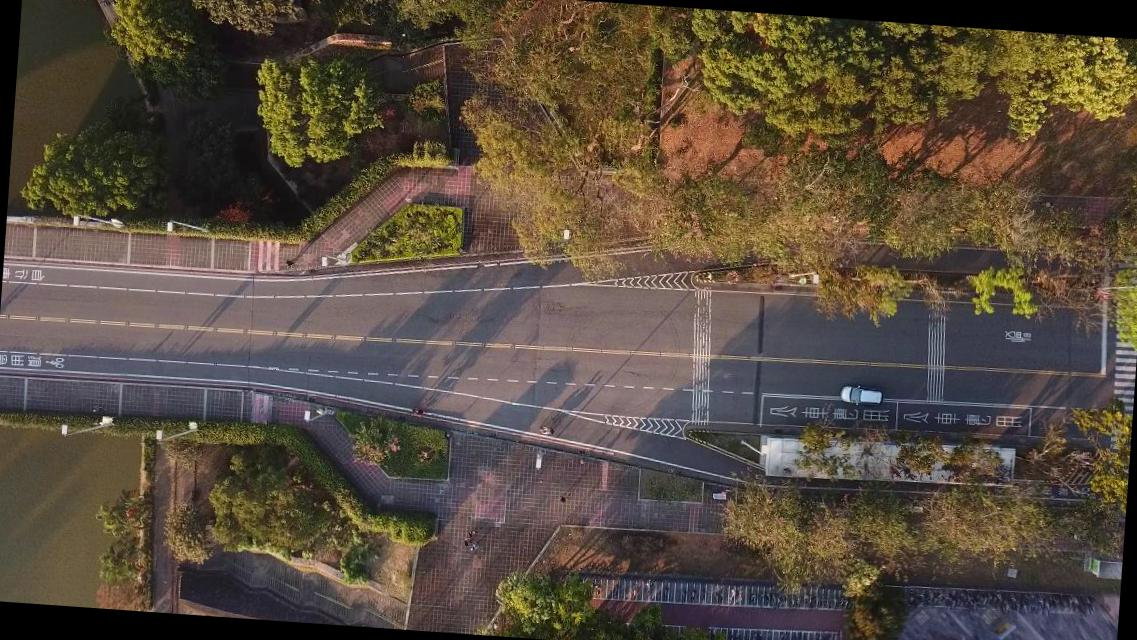vehicle: (839, 383, 882, 406)
